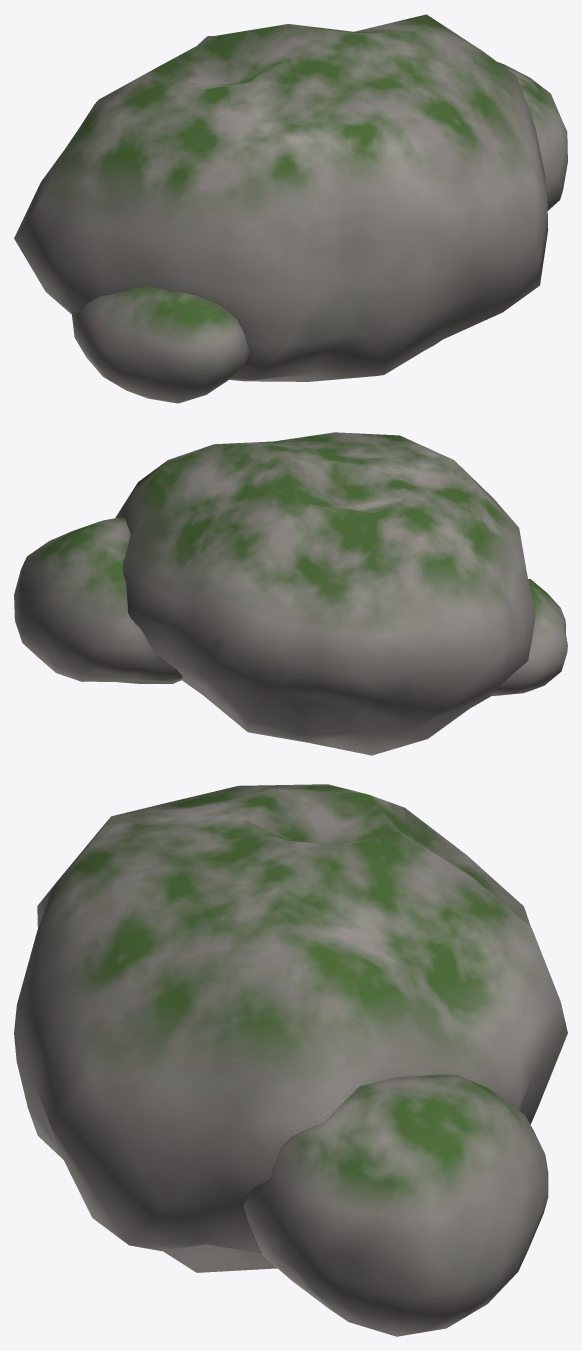
File: rock_cluster.glb
3 views of the same model, one above another, from view 1: azimuth 30°, elevation 25°; view 2: azimuth 150°, elevation 25°; view 3: azimuth 270°, elevation 25° (orthographic). The views are drawn at different scales.
Parts seen in each view (by area): view 1: rock_cluster; view 2: rock_cluster; view 3: rock_cluster.
Boxes of the visible parts, x1,y1,x2,y2 form: rock_cluster: (14,14,567,403); rock_cluster: (14,432,567,755); rock_cluster: (14,784,567,1336).
Size of the model in its own units: 4.24 by 2.29 by 2.92.
1 material, 1 textured.
